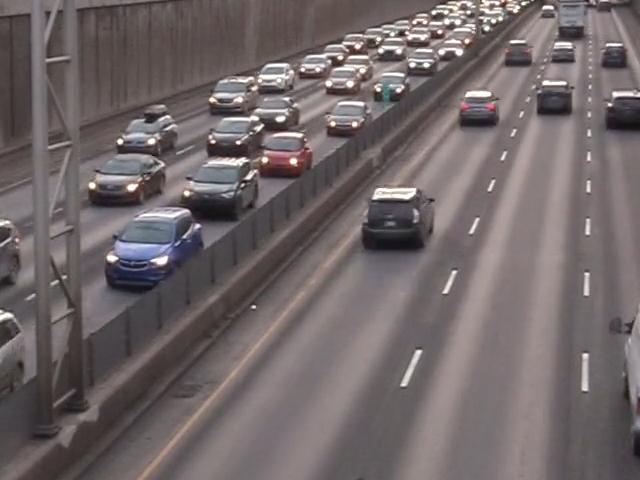car: (100, 205, 213, 293), (357, 168, 450, 258), (185, 153, 263, 222), (83, 155, 168, 212), (114, 104, 184, 154), (257, 131, 314, 180), (204, 77, 264, 123), (320, 101, 383, 144), (201, 116, 261, 160), (0, 209, 26, 306), (454, 91, 509, 129), (251, 99, 309, 134), (597, 90, 640, 135), (254, 59, 303, 91), (370, 71, 410, 100), (531, 87, 567, 119), (597, 43, 637, 71), (326, 69, 361, 96), (381, 37, 411, 67), (411, 49, 443, 76), (504, 40, 537, 66), (326, 43, 354, 70), (444, 37, 474, 61), (349, 51, 373, 77), (303, 54, 331, 74), (551, 44, 577, 61)
truck: (560, 0, 592, 41)
van: (603, 303, 640, 463)
